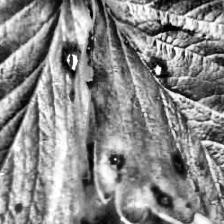Leaf Spot: (83, 0, 224, 224), (0, 0, 94, 224)
